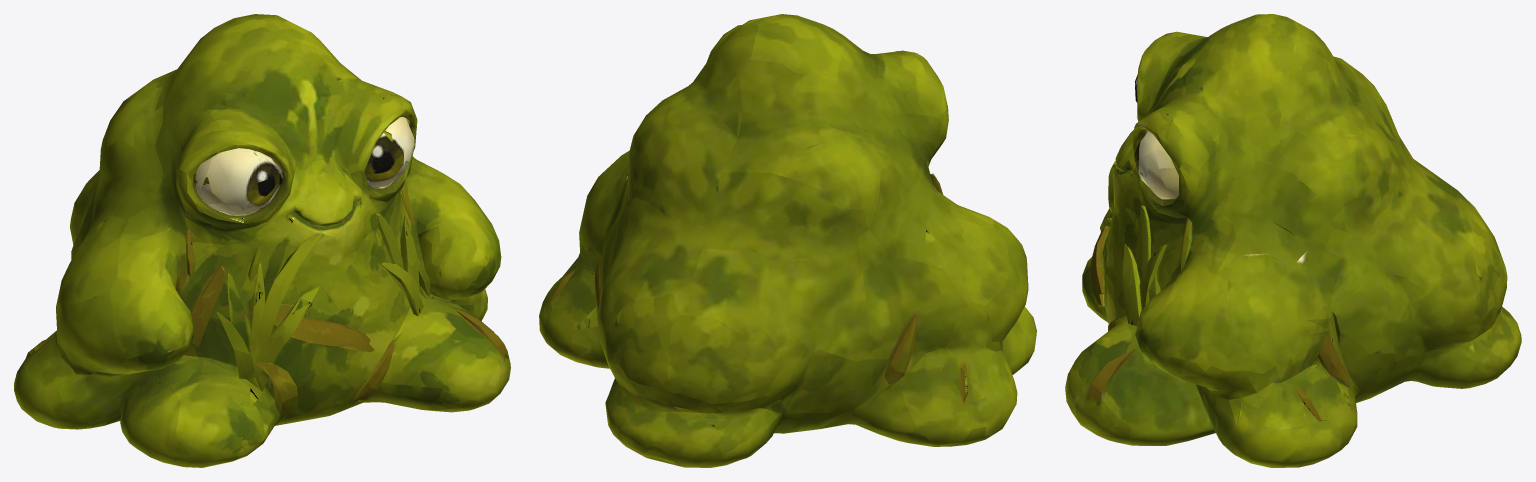
Rendered from bog-slime.low.glb.
3 renders of one model, left to right at view 1: azimuth 30°, elevation 25°; view 2: azimuth 150°, elevation 25°; view 3: azimuth 270°, elevation 25°, orthographic. The views are drawn at different scales.
Visible parts, largest first — view 1: output_unwrapped; view 2: output_unwrapped; view 3: output_unwrapped.
Boxes of the visible parts, x1,y1,x2,y2 form: output_unwrapped: (14,14,510,467); output_unwrapped: (539,14,1036,467); output_unwrapped: (1065,14,1521,467).
Bounding box in the file's own units: 1.9 × 1.41 × 1.69.
Materials: 1 (1 with a texture image).
